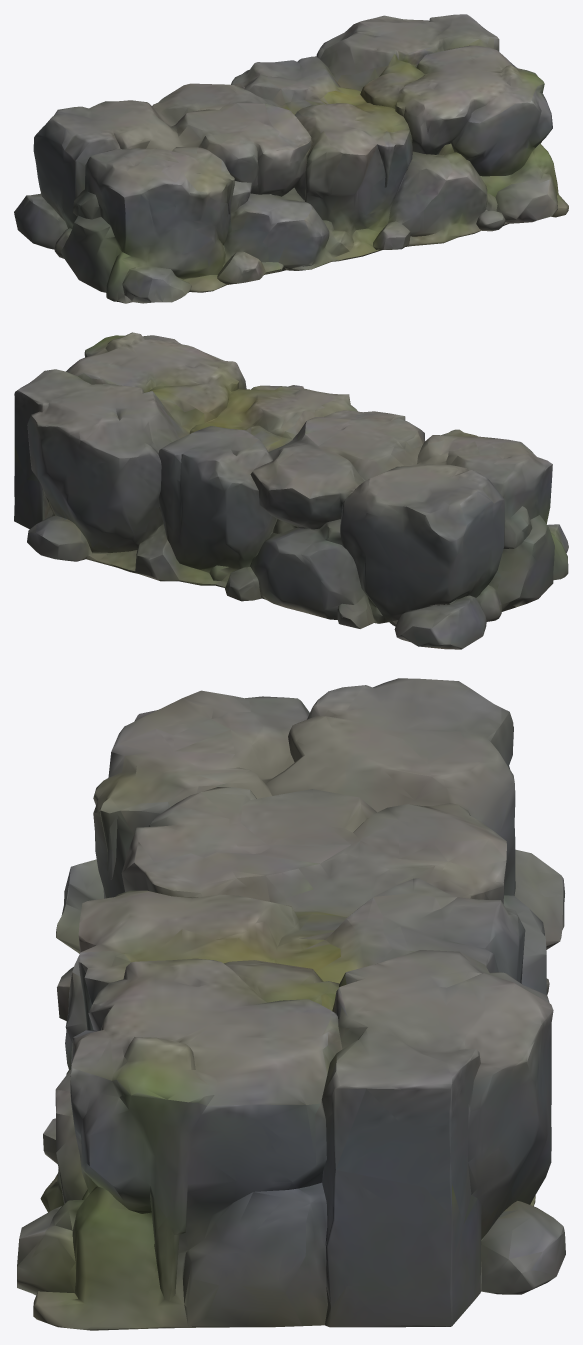
The model's file is cueva_pared_baja_6000.glb.
3 renders of one model, top to bottom at view 1: azimuth 30°, elevation 25°; view 2: azimuth 150°, elevation 25°; view 3: azimuth 270°, elevation 25°, orthographic. The views are drawn at different scales.
Parts seen in each view (by area): view 1: cueva_pared_baja_malla; view 2: cueva_pared_baja_malla; view 3: cueva_pared_baja_malla.
Boxes of the visible parts, x1=… form: cueva_pared_baja_malla: x1=14, y1=14, x2=568, y2=303; cueva_pared_baja_malla: x1=14, y1=332, x2=568, y2=649; cueva_pared_baja_malla: x1=17, y1=678, x2=565, y2=1330.
Size of the model in its own units: 0.538 by 0.1481 by 0.2876.
1 material, 1 textured.
